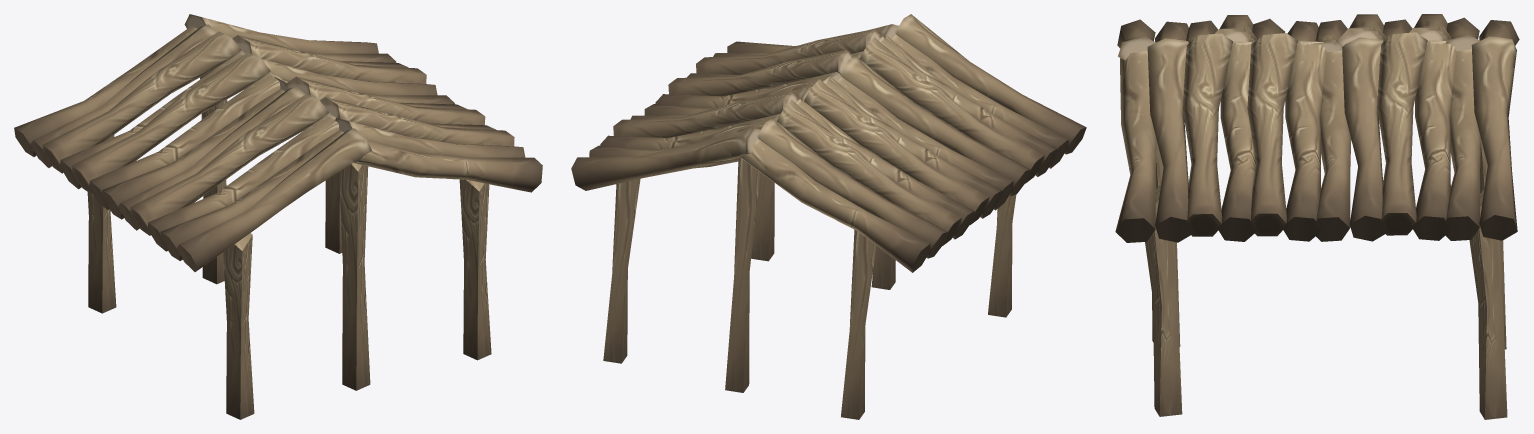
The model's file is Egypt_Village_Props_12.FBX.
The picture shows the model from 3 angles, left to right: view 1: azimuth 30°, elevation 25°; view 2: azimuth 150°, elevation 25°; view 3: azimuth 270°, elevation 25°; orthographic projection. The views are drawn at different scales.
Visible parts, largest first — view 1: Egypt_Village_Props_12; view 2: Egypt_Village_Props_12; view 3: Egypt_Village_Props_12.
Boxes of the visible parts, left/top/right/bottom form: Egypt_Village_Props_12: left=14, top=14, right=542, bottom=419; Egypt_Village_Props_12: left=571, top=14, right=1086, bottom=419; Egypt_Village_Props_12: left=1115, top=14, right=1519, bottom=419.
Size of the model in its own units: 375 by 269 by 320.
